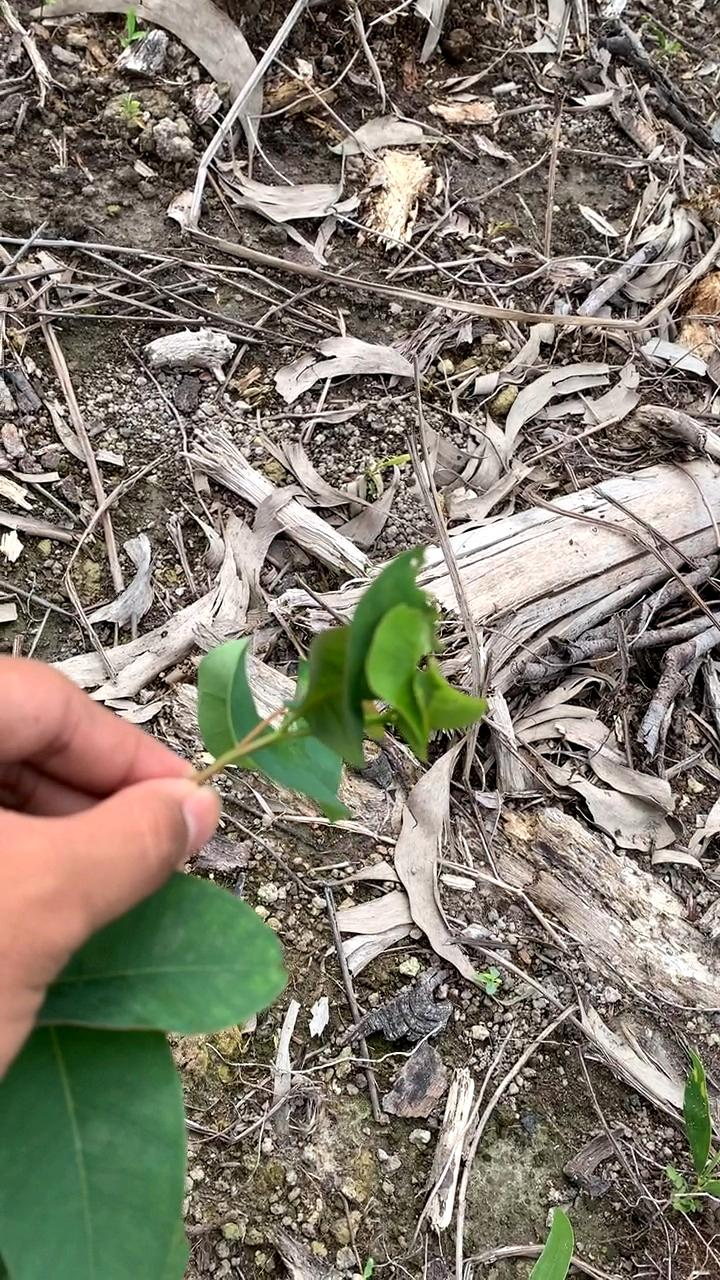Leaf Roller - Leaf: (279, 533, 503, 792)
